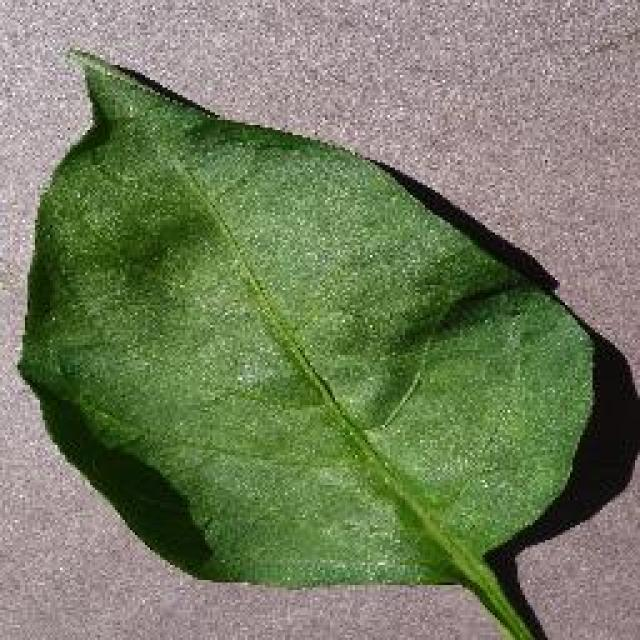Leaf: (3, 34, 636, 625)
